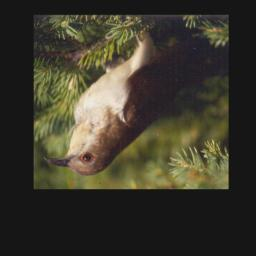Cuckoo: (43, 29, 221, 177)
